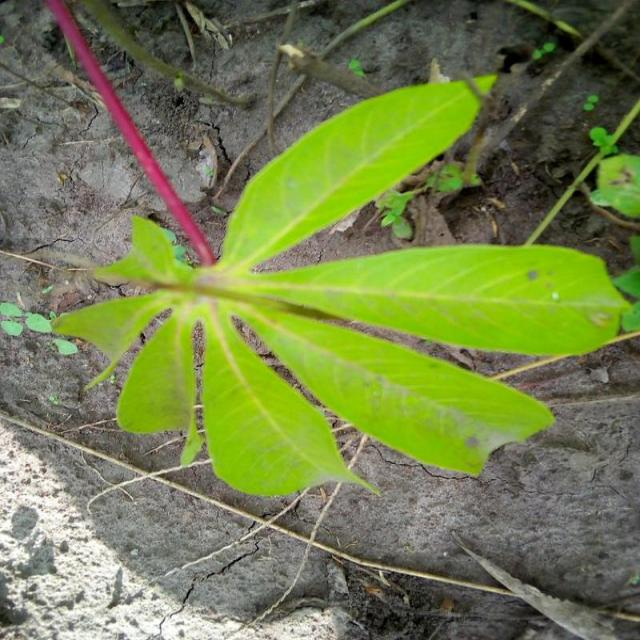cassava leaf: (48, 67, 634, 498), (216, 70, 498, 272)
